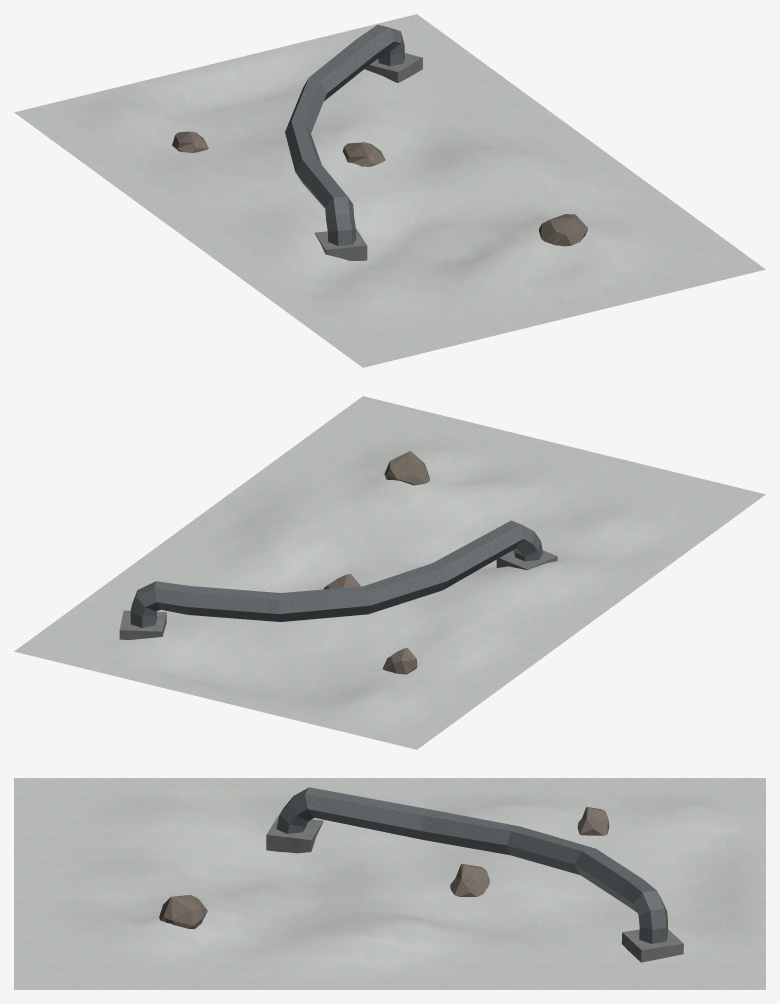
File: bigbox_4.obj
The picture shows the model from 3 angles, top to bottom: view 1: azimuth 30°, elevation 25°; view 2: azimuth 150°, elevation 25°; view 3: azimuth 270°, elevation 25°; orthographic projection. The views are drawn at different scales.
Visible parts, largest first — view 1: bigbox_4_Cube.117; view 2: bigbox_4_Cube.117; view 3: bigbox_4_Cube.117.
Boxes of the visible parts, box(x1,y1,x2,y2) form: bigbox_4_Cube.117: box(14, 14, 765, 367); bigbox_4_Cube.117: box(14, 396, 765, 749); bigbox_4_Cube.117: box(14, 778, 765, 989).
Bounding box in the file's own units: 1024 × 172 × 1536.
